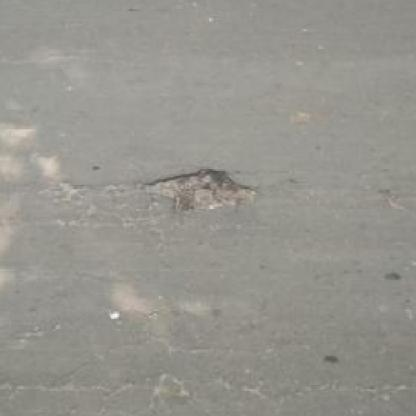pothole: (139, 165, 260, 215)
